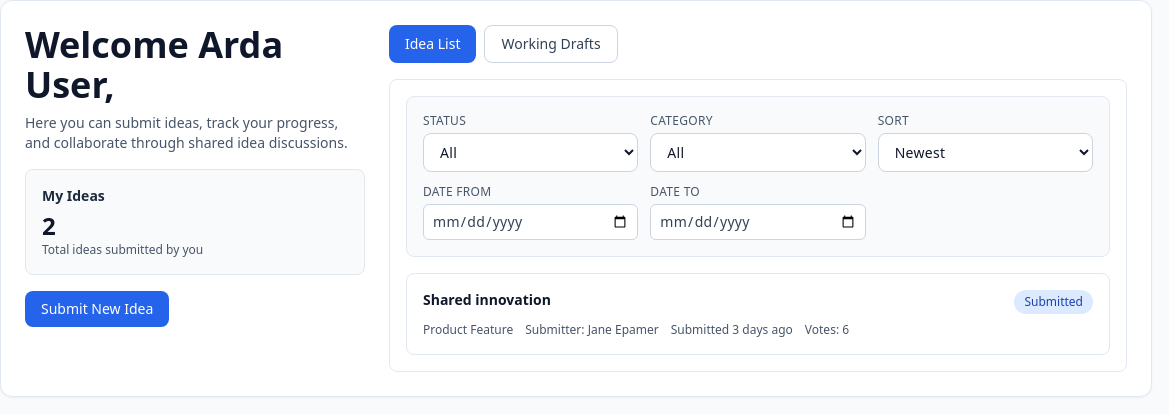
Test: dashboard shared ideas and onboarding copy › renders welcome guidance and shared ideas list for submitter
Expected: the element with test id "dashboard-left-panel" is shown, [25,25,365,372]
Expected: the element with test id "dashboard-middle-panel" is shown, [389,25,1127,372]
Click the button with aria-label "Show working drafts": (551, 44) [484,25,618,63]
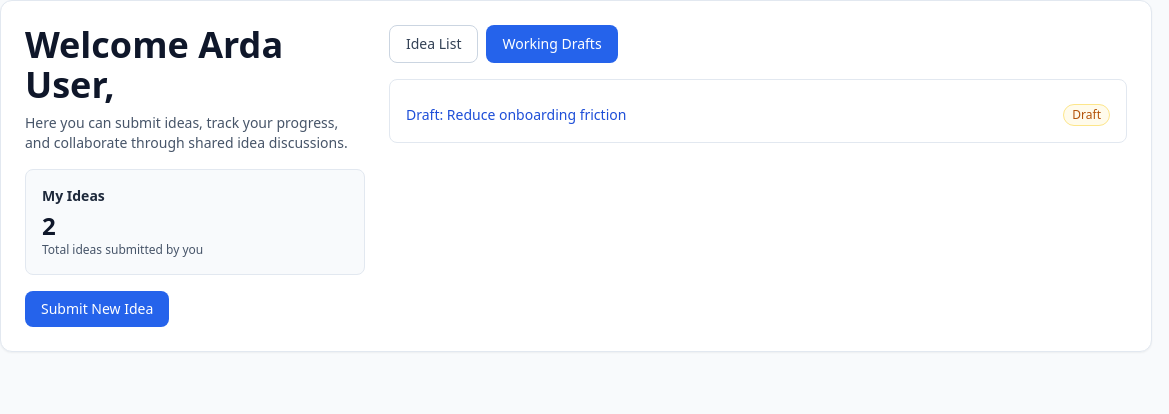
Result: the text "Draft: Reduce onboarding friction" is shown at [406,105,626,125]
